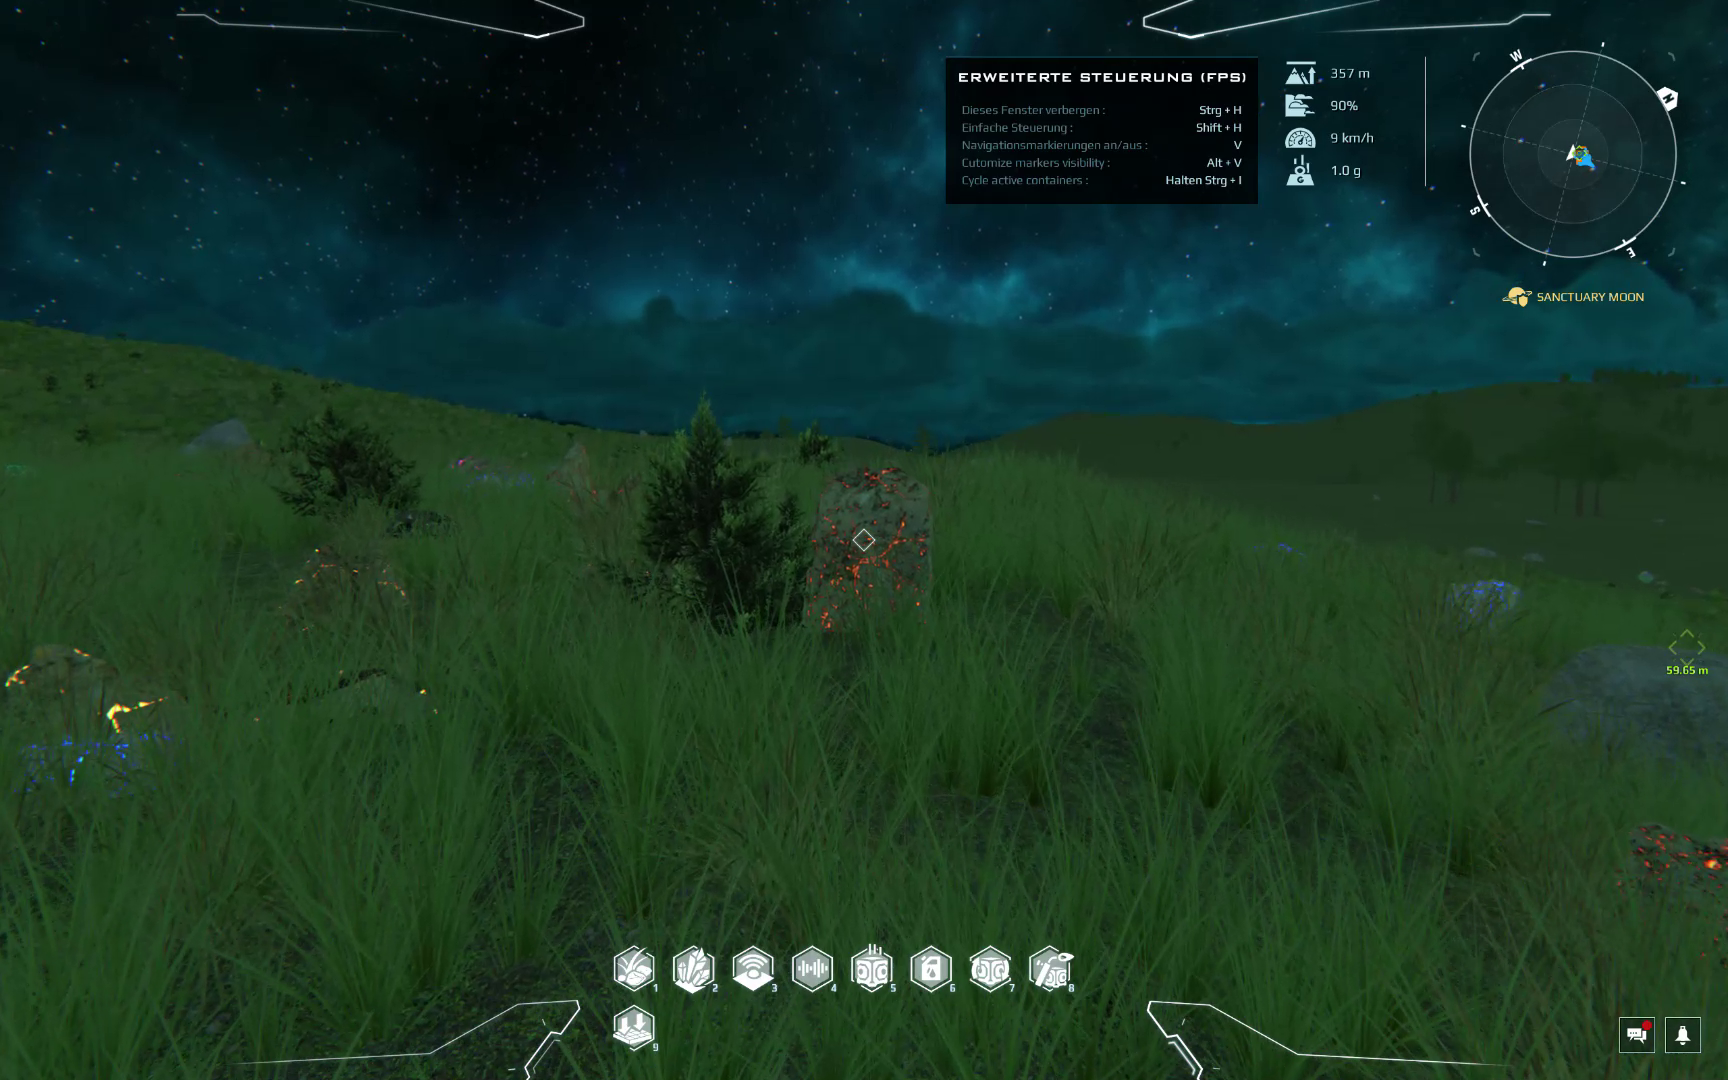Ore: (806, 467, 934, 641), (1599, 814, 1728, 962), (6, 640, 197, 732), (269, 542, 429, 635), (1, 732, 175, 798), (545, 439, 611, 513), (1443, 569, 1521, 630), (445, 444, 493, 480), (1265, 531, 1311, 565)
